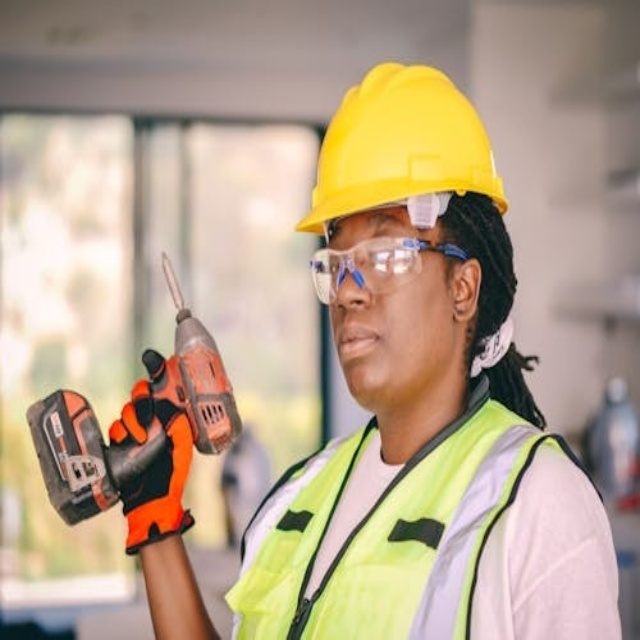Gafas: (308, 234, 466, 304)
Guantes: (106, 338, 192, 560)
Sin_mascara: (328, 319, 399, 391)
